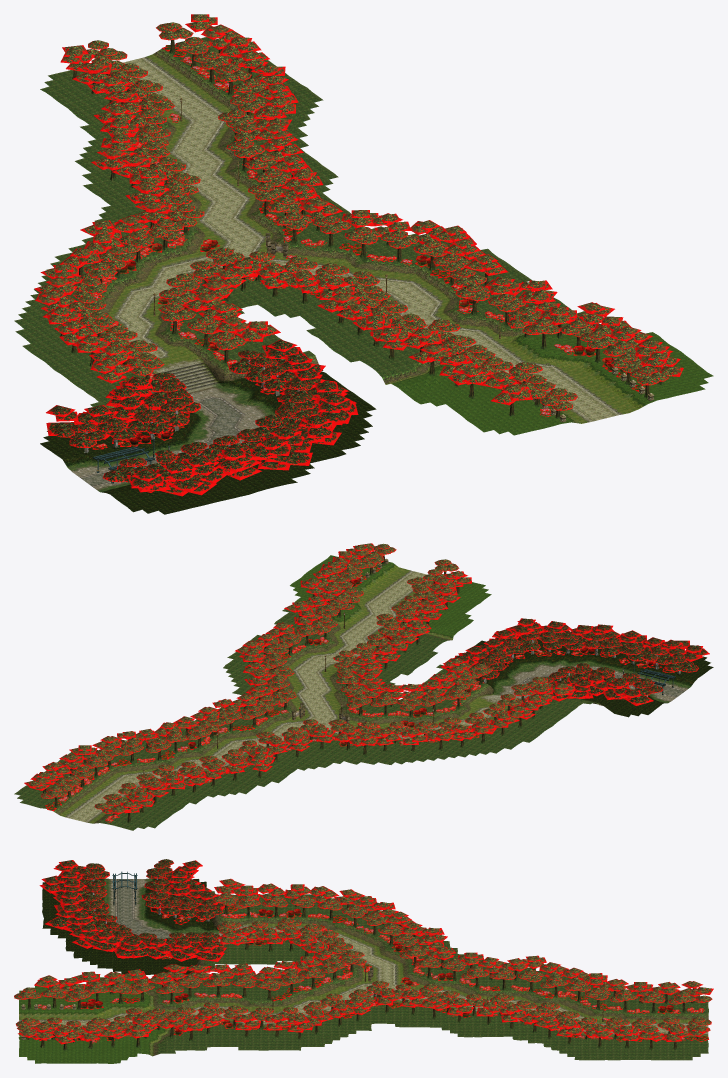
Rendered from RoyalAvenueEast.obj.
3 views of the same model, one above another, from view 1: azimuth 30°, elevation 25°; view 2: azimuth 150°, elevation 25°; view 3: azimuth 270°, elevation 25° (orthographic). The views are drawn at different scales.
Visible parts, largest first — view 1: Object.012; view 2: Object.012; view 3: Object.012.
Part boxes in pixels (x1,y1,x2,y2): Object.012: [14, 14, 713, 514]; Object.012: [14, 543, 713, 830]; Object.012: [14, 859, 713, 1063].
Size of the model in its own units: 119 by 9.17 by 179.
17 materials, 17 textured.
